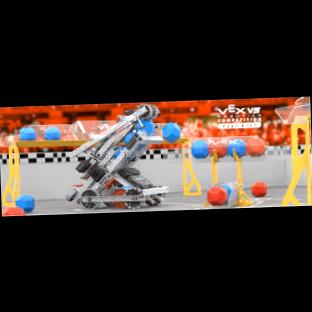Goal: (1, 119, 115, 205), (275, 96, 312, 204), (161, 123, 201, 194), (154, 122, 167, 135)
Med_goal: (188, 135, 266, 205), (203, 199, 211, 206)
Robot: (66, 103, 168, 208)
V5_BLUE: (162, 122, 180, 142), (227, 138, 245, 156), (15, 194, 34, 211), (191, 140, 208, 157), (44, 126, 60, 138), (19, 127, 35, 139), (219, 184, 231, 197)
V5_RED: (207, 186, 227, 204), (246, 138, 264, 155), (251, 181, 267, 196), (2, 205, 25, 215)
